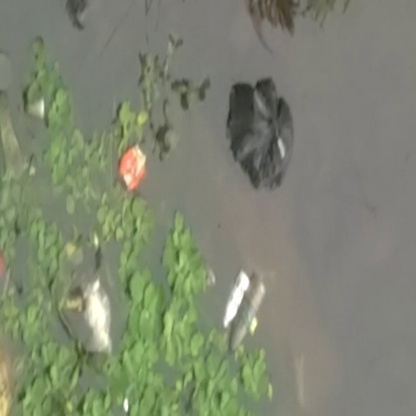plastic-bag: (224, 68, 301, 198)
